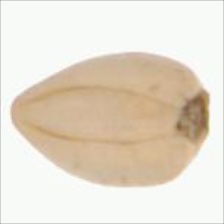L5: (20, 85, 180, 146), (176, 85, 212, 148), (7, 88, 29, 136)
L6: (9, 51, 212, 189)
